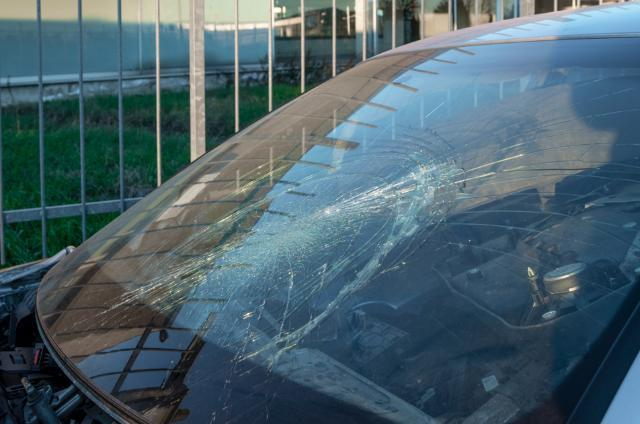Windshield: (75, 145, 478, 424)
